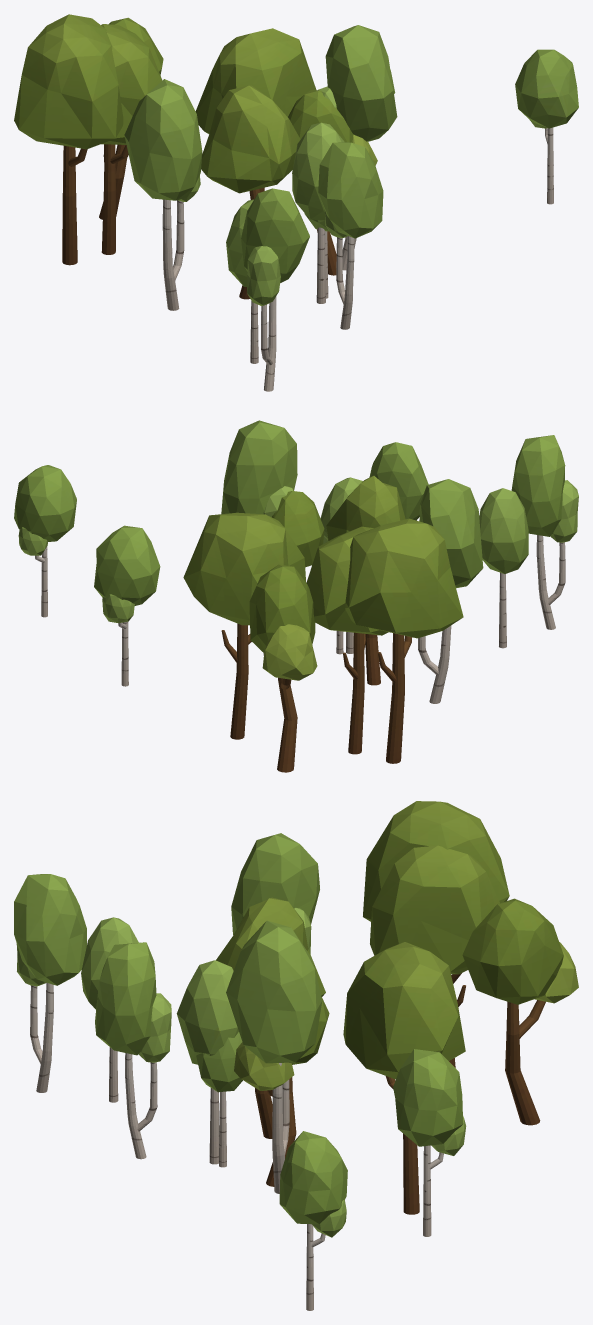
The model's file is Trees6.gltf.
3 renders of one model, top to bottom at view 1: azimuth 30°, elevation 25°; view 2: azimuth 150°, elevation 25°; view 3: azimuth 270°, elevation 25°, orthographic. The views are drawn at different scales.
Visible parts, largest first — view 1: Beechtree3 - copy.016, BirchTree2 - copy.020, Beechtree1 - copy.048, BirchTree2 - copy.016, Beechtree3 - copy.008, BirchTree2 - copy.038, BirchTree2 - copy.027, Beechtree3 - copy.004, BirchTree3 - copy.031, BirchTree1 - copy.033, Beechtree2 - copy.009, BirchTree1 - copy.053 (+1 smaller); view 2: Beechtree3 - copy.016, Beechtree3 - copy.008, Beechtree2 - copy.026, BirchTree2 - copy.016, BirchTree2 - copy.038, BirchTree2 - copy.020, Beechtree3 - copy.004, BirchTree3 - copy.027, BirchTree3 - copy.031, BirchTree1 - copy.053, Beechtree1 - copy.048, BirchTree2 - copy.027 (+2 smaller); view 3: Beechtree3 - copy.008, BirchTree2 - copy.038, Beechtree2 - copy.026, Beechtree3 - copy.004, BirchTree2 - copy.027, BirchTree2 - copy.016, Beechtree3 - copy.016, BirchTree3 - copy.027, BirchTree3 - copy.031, BirchTree2 - copy.020, BirchTree1 - copy.033, Beechtree1 - copy.048 (+3 smaller).
Boxes of the visible parts, left/top/right/bottom form: Beechtree3 - copy.016: left=14, top=14, right=123, bottom=265; BirchTree2 - copy.020: left=124, top=79, right=202, bottom=310; Beechtree1 - copy.048: left=201, top=85, right=300, bottom=299; BirchTree2 - copy.016: left=241, top=188, right=309, bottom=391; Beechtree3 - copy.008: left=195, top=28, right=316, bottom=192; BirchTree2 - copy.038: left=318, top=25, right=397, bottom=270; BirchTree2 - copy.027: left=318, top=142, right=383, bottom=329; Beechtree3 - copy.004: left=101, top=24, right=162, bottom=254; BirchTree3 - copy.031: left=515, top=49, right=578, bottom=204; BirchTree1 - copy.033: left=292, top=122, right=344, bottom=303; Beechtree2 - copy.009: left=288, top=90, right=377, bottom=275; BirchTree1 - copy.053: left=226, top=199, right=258, bottom=363; Beechtree3 - copy.016: left=345, top=518, right=463, bottom=763; Beechtree3 - copy.008: left=183, top=512, right=305, bottom=739; Beechtree2 - copy.026: left=249, top=564, right=317, bottom=772; BirchTree2 - copy.016: left=511, top=435, right=578, bottom=629; BirchTree2 - copy.038: left=221, top=420, right=297, bottom=655; BirchTree2 - copy.020: left=418, top=479, right=483, bottom=703; Beechtree3 - copy.004: left=306, top=526, right=388, bottom=754; BirchTree3 - copy.027: left=94, top=525, right=160, bottom=686; BirchTree3 - copy.031: left=14, top=465, right=76, bottom=617; BirchTree1 - copy.053: left=479, top=488, right=528, bottom=648; Beechtree1 - copy.048: left=326, top=475, right=405, bottom=685; BirchTree2 - copy.027: left=369, top=442, right=428, bottom=632; Beechtree3 - copy.008: left=343, top=942, right=465, bottom=1214; BirchTree2 - copy.038: left=226, top=920, right=322, bottom=1193; Beechtree2 - copy.026: left=462, top=898, right=578, bottom=1125; Beechtree3 - copy.004: left=370, top=845, right=499, bottom=1065; BirchTree2 - copy.027: left=95, top=942, right=171, bottom=1159; BirchTree2 - copy.016: left=14, top=874, right=86, bottom=1092; Beechtree3 - copy.016: left=363, top=801, right=509, bottom=1067; BirchTree3 - copy.027: left=393, top=1049, right=466, bottom=1236; BirchTree3 - copy.031: left=279, top=1131, right=347, bottom=1310; BirchTree2 - copy.020: left=231, top=833, right=319, bottom=953; BirchTree1 - copy.033: left=176, top=960, right=238, bottom=1164; Beechtree1 - copy.048: left=216, top=897, right=325, bottom=1138.
Bounding box in the file's own units: 25.37 × 13.09 × 21.8.
Materials: 6 (6 with a texture image).
